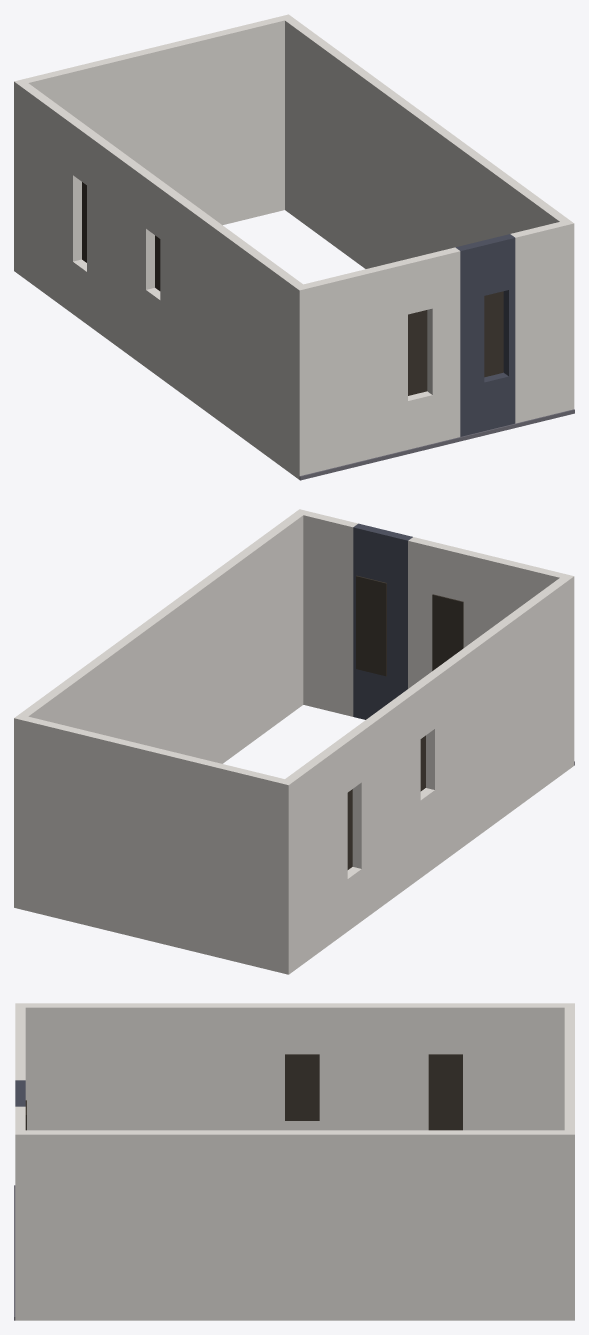
Rendered from SM_Floor_NarrowUpperScatterLowEndL_White_455_01.gltf.
3 renders of one model, top to bottom at view 1: azimuth 30°, elevation 25°; view 2: azimuth 150°, elevation 25°; view 3: azimuth 270°, elevation 25°, orthographic. The views are drawn at different scales.
Visible parts, largest first — view 1: SM_Floor_NarrowUpperScatterLowEndL_White_455_01; view 2: SM_Floor_NarrowUpperScatterLowEndL_White_455_01; view 3: SM_Floor_NarrowUpperScatterLowEndL_White_455_01.
Part boxes in pixels (left/top/right/bottom): SM_Floor_NarrowUpperScatterLowEndL_White_455_01: left=14, top=14, right=574, bottom=480; SM_Floor_NarrowUpperScatterLowEndL_White_455_01: left=14, top=509, right=574, bottom=974; SM_Floor_NarrowUpperScatterLowEndL_White_455_01: left=14, top=1003, right=574, bottom=1320.
Bounding box in the file's own units: 4.55 × 3 × 8.21.
Materials: 1 (1 with a texture image).
